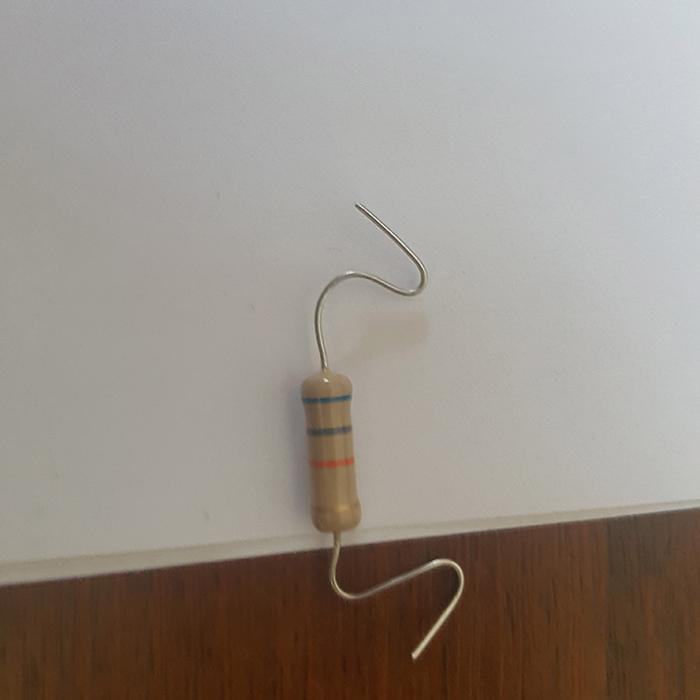resistor: (299, 368, 358, 534)
